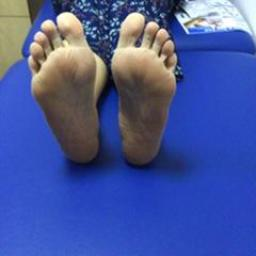Plantar View -Both Feet-: (17, 5, 188, 175)
